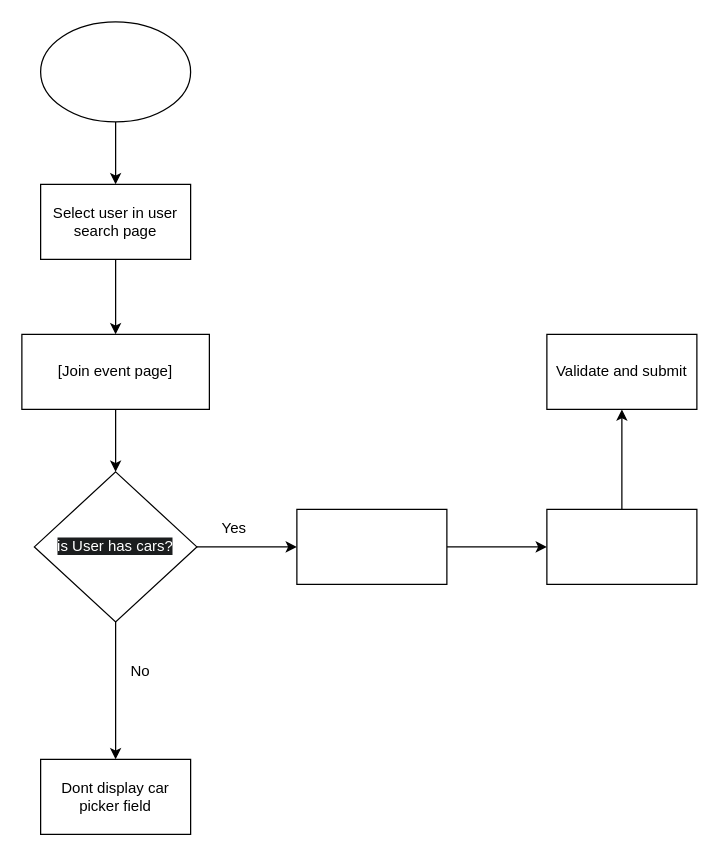
Image size: 719x856. Some labels were removed from this diagram. Here are the shapes that lost their labels. From the top down, the centre of each, then its label:
point 115,71: Event info page
point 371,546: Display car picker field
point 621,546: Complete the join event form
